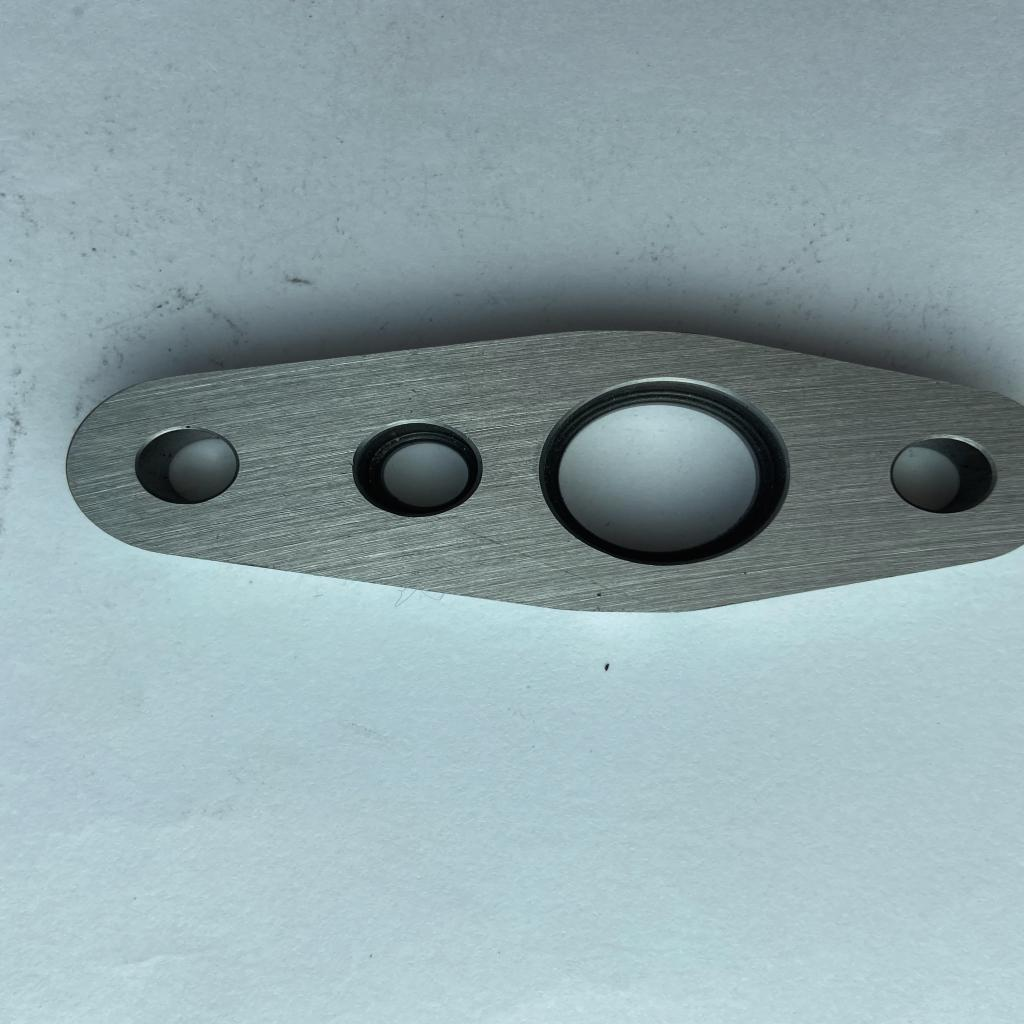lines: (474, 536, 528, 557), (530, 557, 572, 574), (587, 578, 619, 596)
